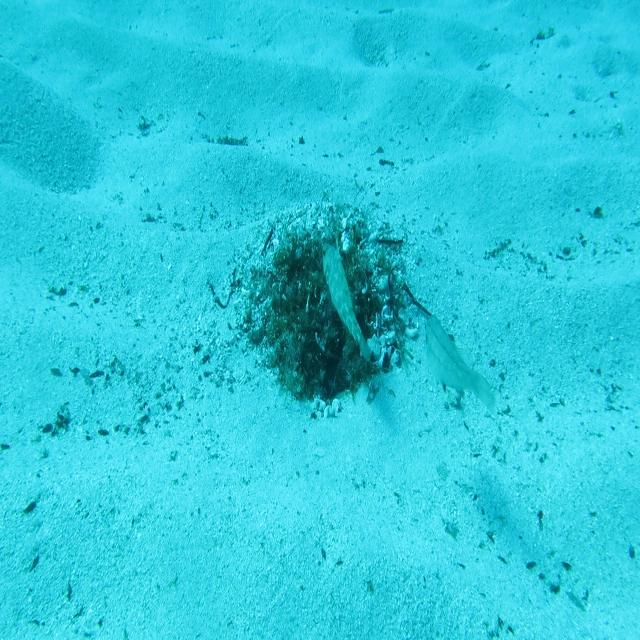BK_SW: (318, 233, 375, 366)
core_nest: (284, 238, 350, 276)
female: (424, 311, 500, 422)
nest: (217, 186, 430, 428)
